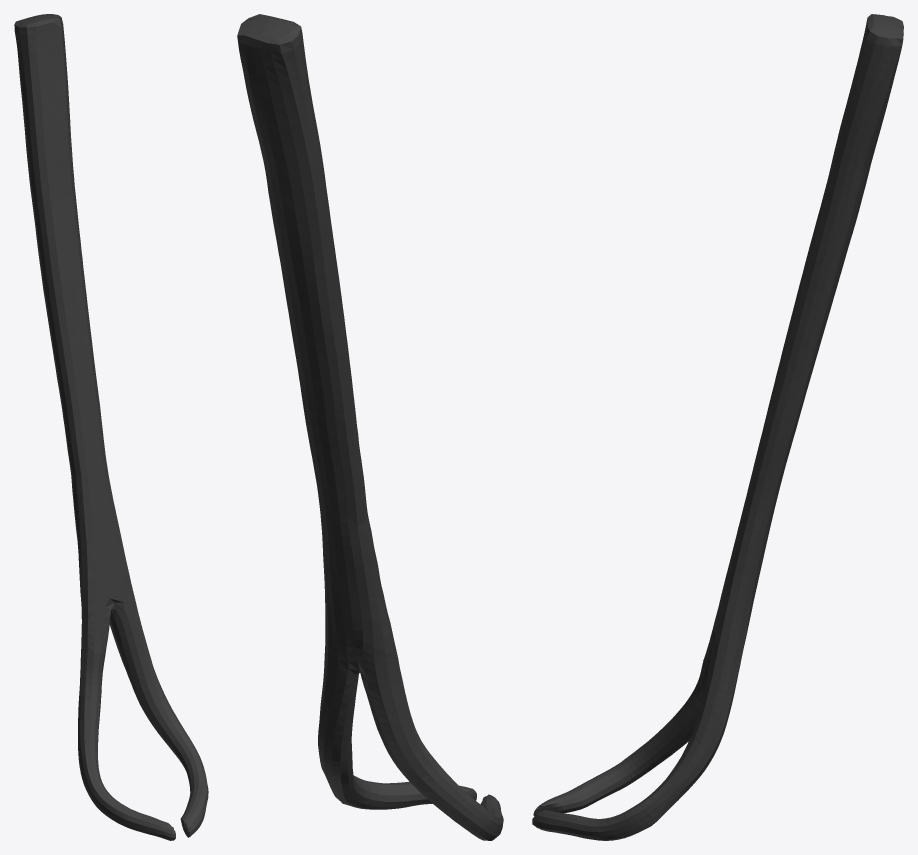
Rendered from Interosseus.glb.
The picture shows the model from 3 angles, left to right: view 1: azimuth 30°, elevation 25°; view 2: azimuth 150°, elevation 25°; view 3: azimuth 270°, elevation 25°; orthographic projection. The views are drawn at different scales.
Parts seen in each view (by area): view 1: Interosseus; view 2: Interosseus; view 3: Interosseus.
Part boxes in pixels (left/top/right/bottom): Interosseus: left=14, top=14, right=208, bottom=840; Interosseus: left=237, top=14, right=503, bottom=840; Interosseus: left=532, top=14, right=903, bottom=840.
Bounding box in the file's own units: 13.84 × 84.38 × 35.18.
Materials: 1 (1 with a texture image).
